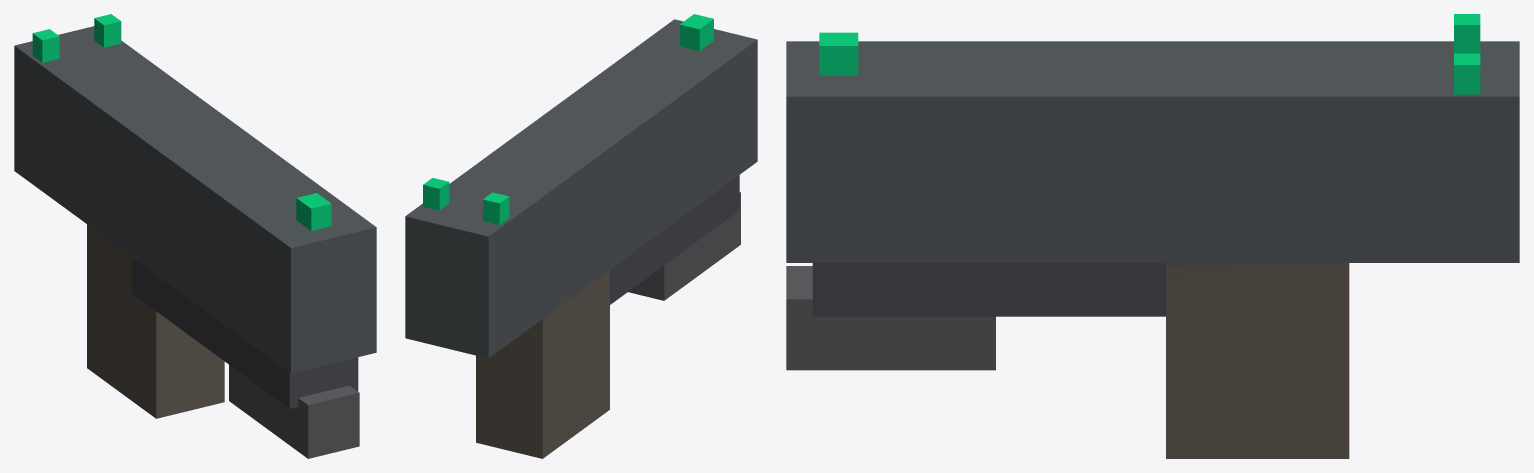
File: weapon_pistol.glb
3 renders of one model, left to right at view 1: azimuth 30°, elevation 25°; view 2: azimuth 150°, elevation 25°; view 3: azimuth 270°, elevation 25°, orthographic. The views are drawn at different scales.
Visible parts, largest first — view 1: weapon_pistol; view 2: weapon_pistol; view 3: weapon_pistol.
Boxes of the visible parts, x1,y1,x2,y2 form: weapon_pistol: (14, 14, 376, 458); weapon_pistol: (405, 14, 757, 458); weapon_pistol: (786, 14, 1519, 458).
Size of the model in its own units: 0.05 by 0.1675 by 0.28.
